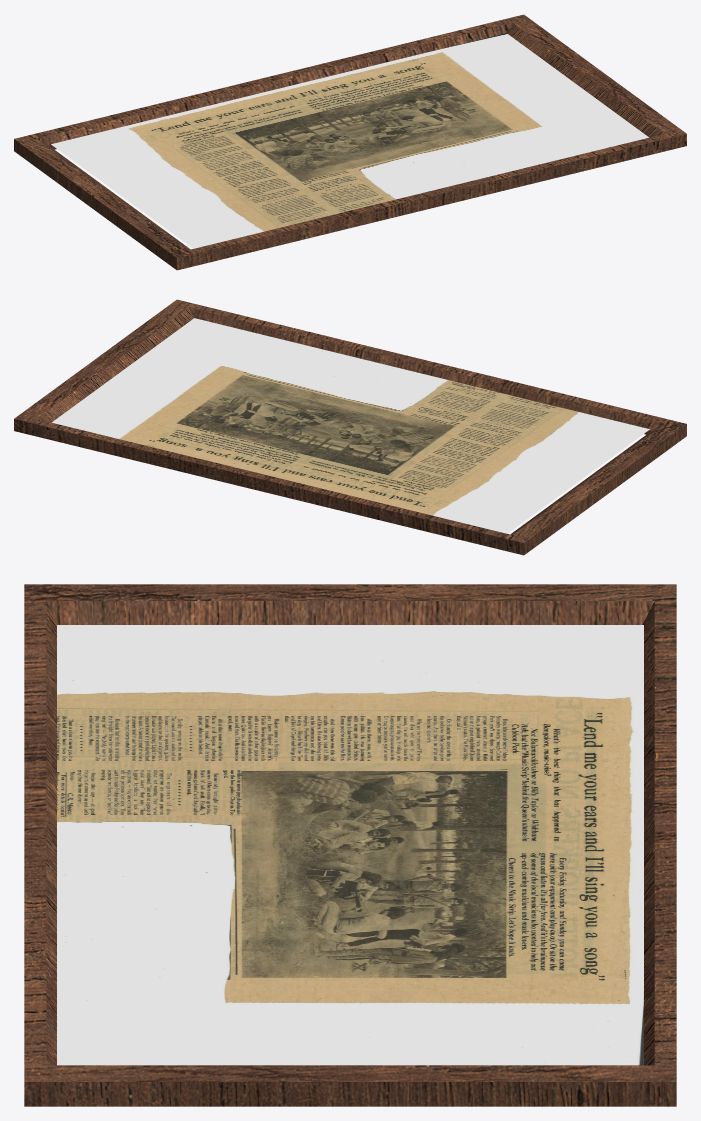
3 views of the same model, one above another, from view 1: azimuth 30°, elevation 25°; view 2: azimuth 150°, elevation 25°; view 3: azimuth 270°, elevation 25° (orthographic). The views are drawn at different scales.
Visible parts, largest first — view 1: Plane, frame1(1); view 2: Plane, frame1(1); view 3: Plane, frame1(1).
Boxes of the visible parts, bbox=[...] form: Plane: bbox=[51, 33, 648, 248]; frame1(1): bbox=[14, 14, 686, 270]; Plane: bbox=[52, 318, 649, 533]; frame1(1): bbox=[14, 299, 686, 555]; Plane: bbox=[57, 625, 643, 1065]; frame1(1): bbox=[24, 584, 676, 1106].
Size of the model in its own units: 18.6 by 0.4268 by 10.29.
2 materials, 2 textured.
